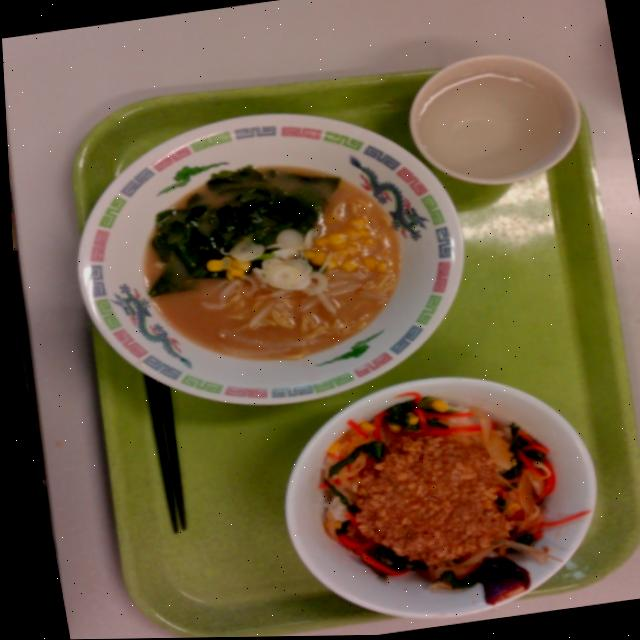面条主食: (31, 190, 493, 504)
